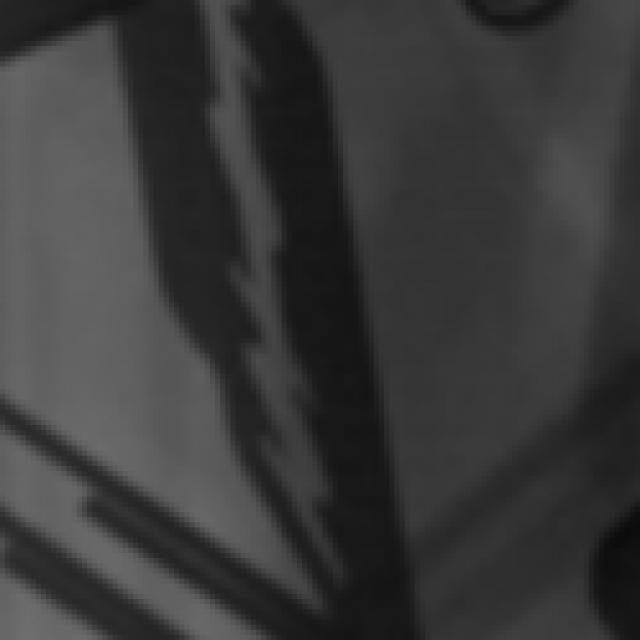BLADE: (119, 1, 457, 631)
